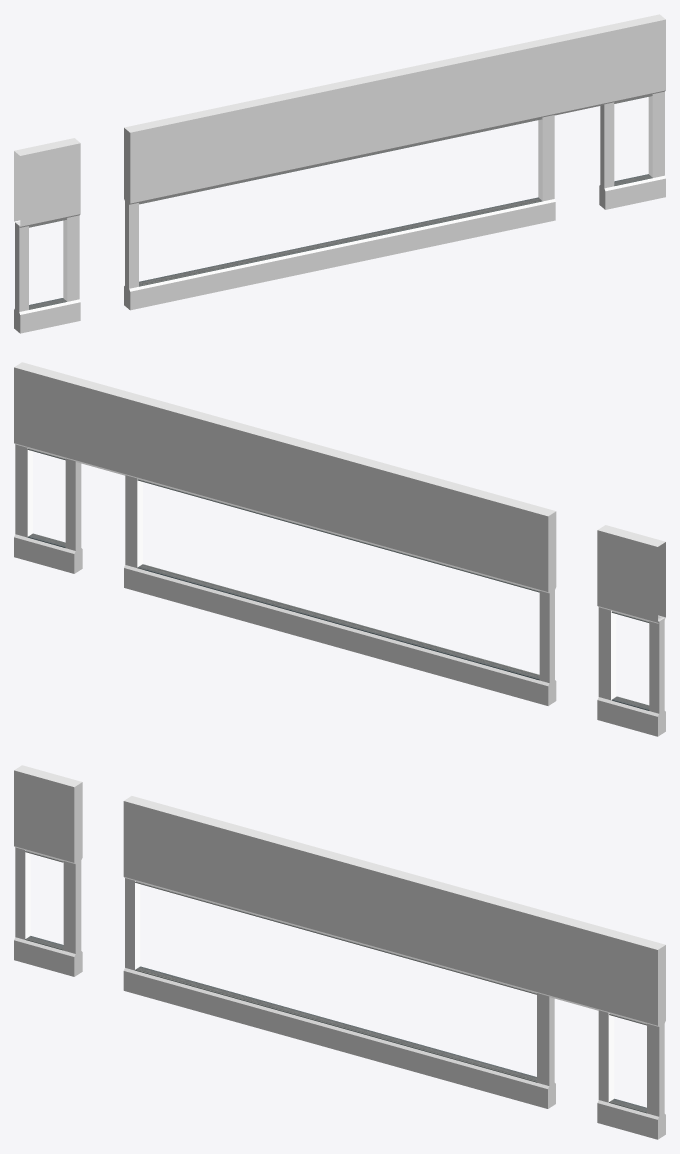
Rendered from e3size.fbx.
3 renders of one model, top to bottom at view 1: azimuth 30°, elevation 25°; view 2: azimuth 150°, elevation 25°; view 3: azimuth 330°, elevation 25°, orthographic. The views are drawn at different scales.
Visible parts, largest first — view 1: Enclosure3RIght_LOW.002, Enclosure3RIghtSTONE_LOW.001; view 2: Enclosure3RIght_LOW.002, Enclosure3RIghtSTONE_LOW.001; view 3: Enclosure3RIght_LOW.002, Enclosure3RIghtSTONE_LOW.001.
Part boxes in pixels (x1,y1,x2,y2): Enclosure3RIght_LOW.002: (14,14,665,333); Enclosure3RIghtSTONE_LOW.001: (139,118,542,286); Enclosure3RIght_LOW.002: (14,362,665,736); Enclosure3RIghtSTONE_LOW.001: (137,479,539,680); Enclosure3RIght_LOW.002: (14,765,665,1139); Enclosure3RIghtSTONE_LOW.001: (135,881,537,1082).
Size of the model in its own units: 1849 by 502 by 146.
2 materials, 2 textured.
